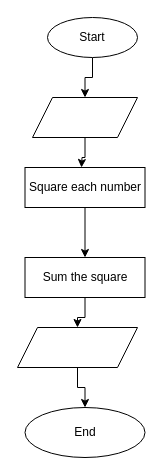
Some shapes in this 163 by 475 pixel diagram are drawn without their labels. The centre of each missing label's shape, as x and y in pixels:
Input int nums: the point at 85,117
print output: the point at 77,347
